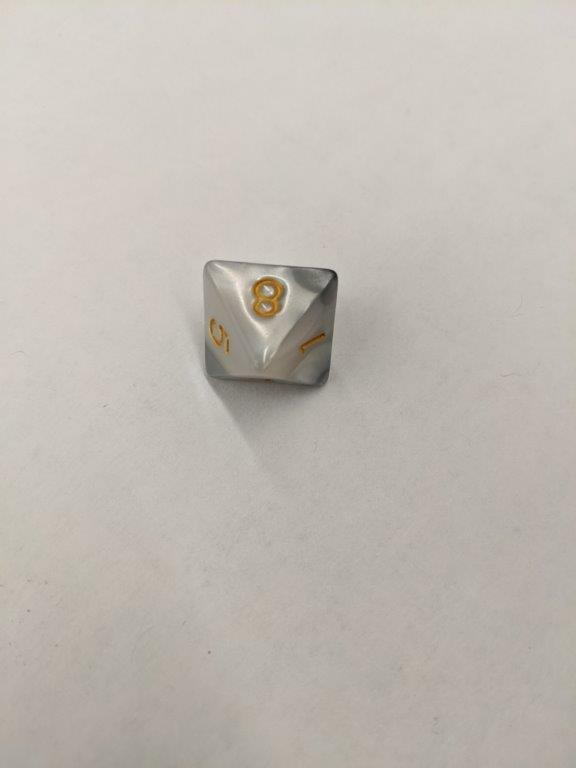d8-8: (200, 257, 336, 395)
